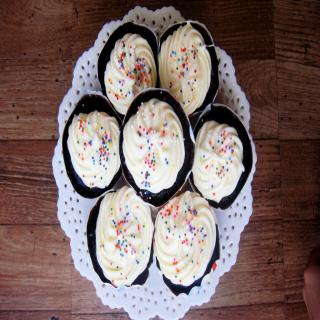Muffin: (62, 21, 253, 298), (158, 196, 218, 292)
